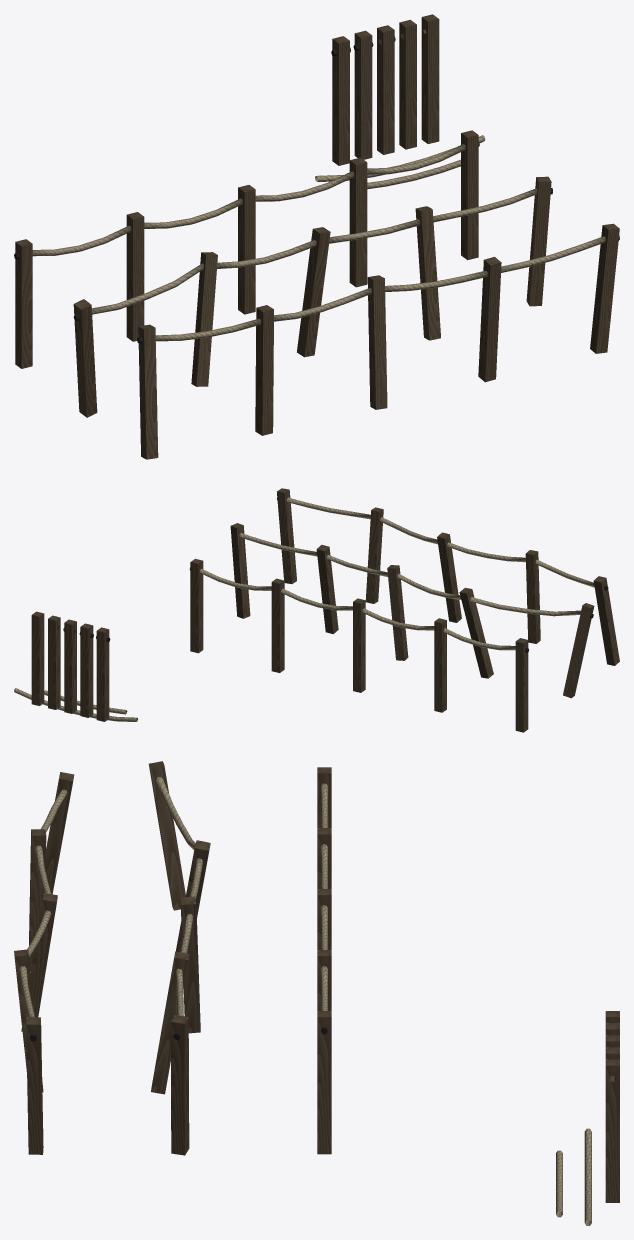
Rendered from rope_fence.dae.
3 views of the same model, one above another, from view 1: azimuth 30°, elevation 25°; view 2: azimuth 150°, elevation 25°; view 3: azimuth 270°, elevation 25° (orthographic). The views are drawn at different scales.
Visible parts, largest first — view 1: RopeFence3, RopeFence1, RopeFence2, PoleHole, Post2Peg, BasePost, Post1Peg, Post0Peg, RopeCurved_001; view 2: RopeFence1, RopeFence2, RopeFence3, Post2Peg, BasePost, PoleHole, Post1Peg, Post0Peg, RopeCurved; view 3: RopeFence2, RopeFence3, RopeFence1, PoleHole, RopeCurved.
Boxes of the visible parts, bbox=[...] form: RopeFence3: bbox=[137, 223, 619, 459]; RopeFence1: bbox=[14, 130, 479, 368]; RopeFence2: bbox=[73, 176, 552, 417]; PoleHole: bbox=[421, 14, 439, 143]; Post2Peg: bbox=[353, 30, 373, 159]; BasePost: bbox=[331, 36, 350, 165]; Post1Peg: bbox=[377, 25, 395, 154]; Post0Peg: bbox=[399, 19, 416, 149]; RopeCurved_001: bbox=[367, 159, 460, 189]; RopeFence1: bbox=[189, 558, 528, 732]; RopeFence2: bbox=[230, 523, 594, 698]; RopeFence3: bbox=[277, 488, 619, 665]; Post2Peg: bbox=[79, 623, 93, 717]; BasePost: bbox=[96, 627, 110, 721]; PoleHole: bbox=[31, 611, 44, 705]; Post1Peg: bbox=[63, 619, 76, 713]; Post0Peg: bbox=[48, 615, 60, 709]; RopeCurved: bbox=[14, 688, 137, 721]; RopeFence2: bbox=[148, 761, 210, 1155]; RopeFence3: bbox=[14, 772, 74, 1154]; RopeFence1: bbox=[317, 767, 331, 1154]; PoleHole: bbox=[605, 1059, 619, 1202]; RopeCurved: bbox=[584, 1128, 591, 1225].
Bounding box in the file's own units: 5.39 × 4.2 × 1.16.
4 materials, 4 textured.
